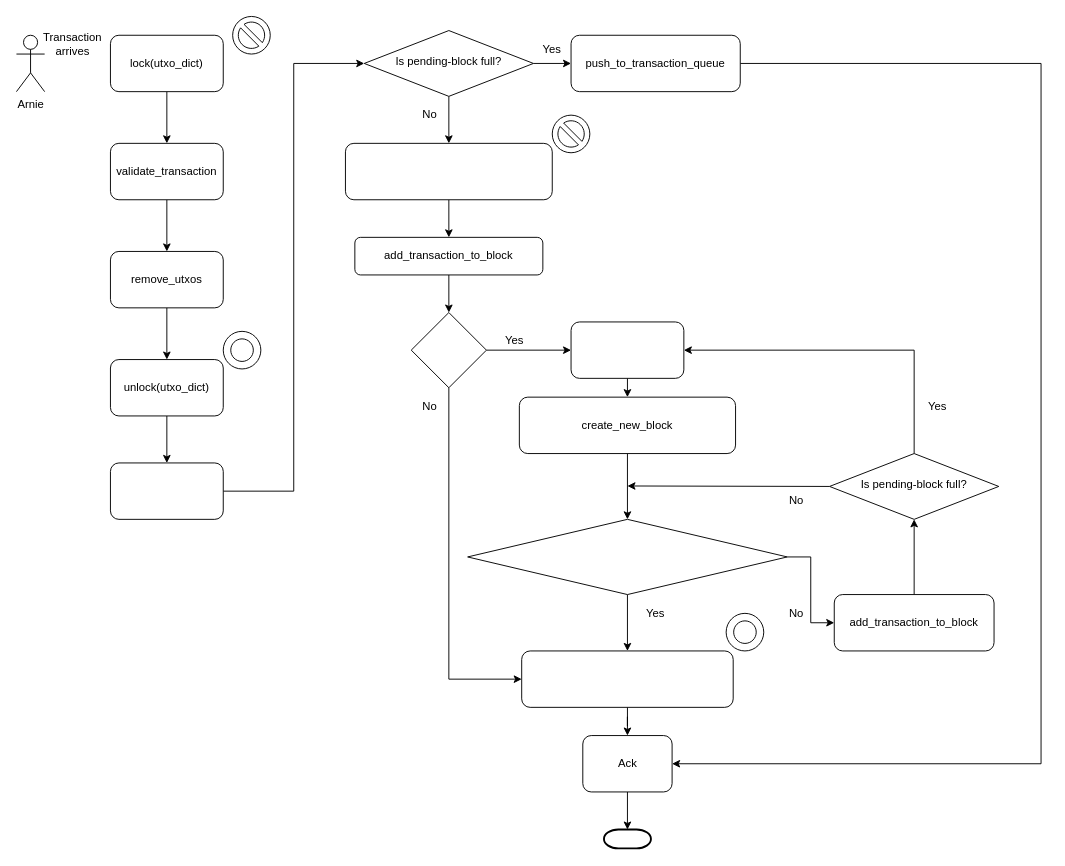
This 1065x866 diagram has some shape labels left out. Here are the shapes that lost their labels. From the top down, the centre of each, then its label:
point 448,171: lock(utxo_add_transaction_to_block)
point 448,350: Maybe now?
point 627,349: mine_block
point 166,490: add_utxos
point 627,556: Is transaction-queue empty?
point 627,678: unlock(utxo_add_transaction_to_block)
